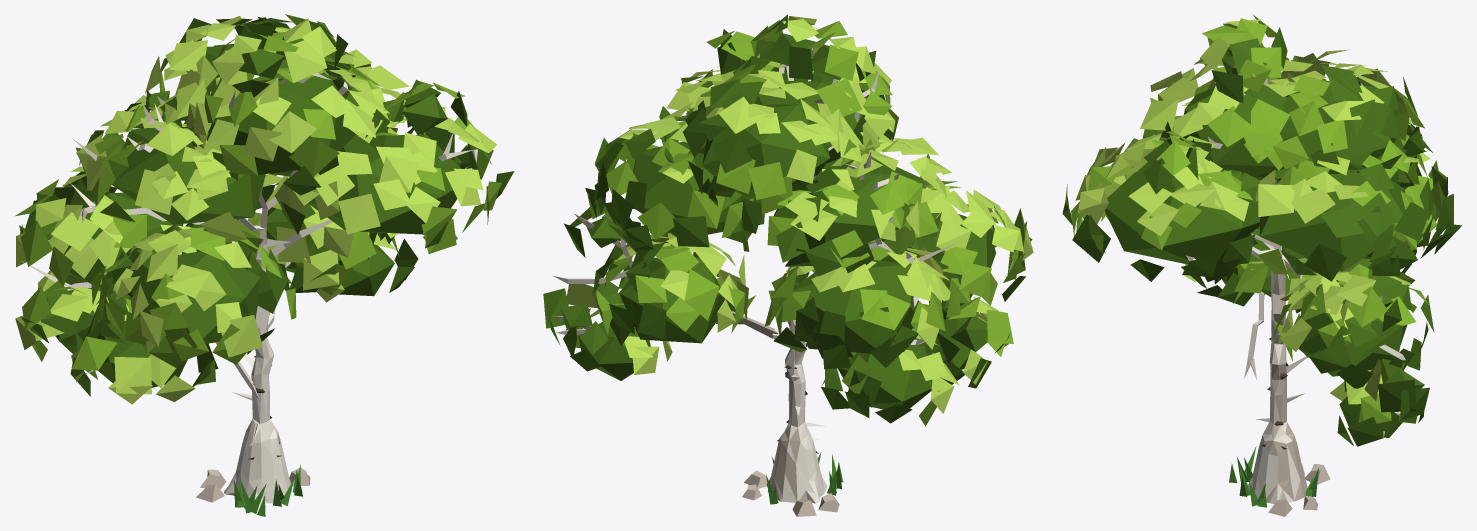
File: birch_bloom.glb
The picture shows the model from 3 angles, left to right: view 1: azimuth 30°, elevation 25°; view 2: azimuth 150°, elevation 25°; view 3: azimuth 270°, elevation 25°; orthographic projection. The views are drawn at different scales.
Parts seen in each view (by area): view 1: birch_bloom; view 2: birch_bloom; view 3: birch_bloom.
Boxes of the visible parts, x1,y1,x2,y2 form: birch_bloom: (15, 14, 514, 516); birch_bloom: (543, 14, 1033, 516); birch_bloom: (1062, 14, 1461, 516).
Bounding box in the file's own units: 7.02 × 7.44 × 5.8.
